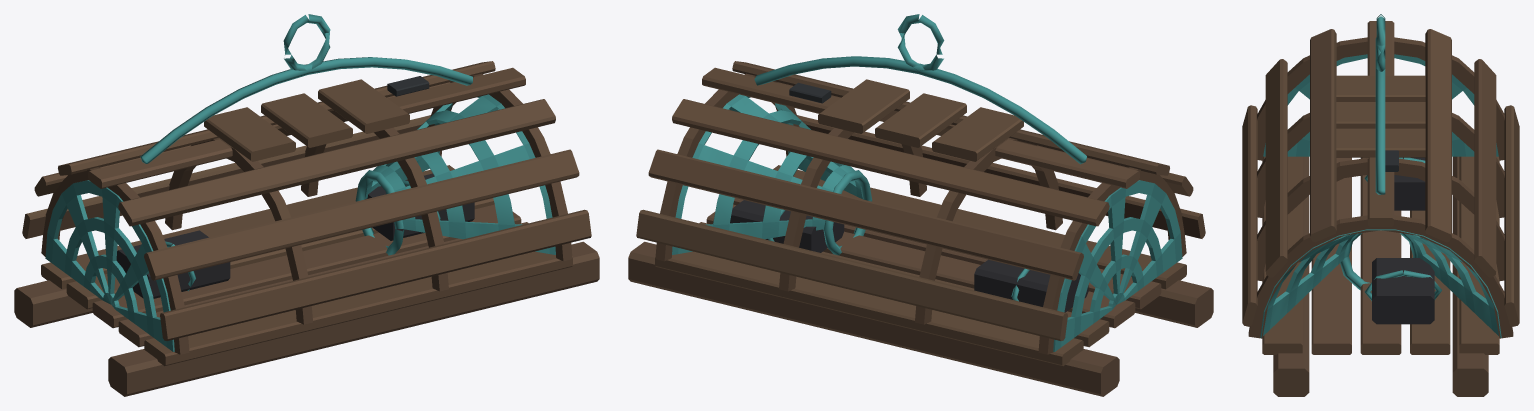
File: prop_lobster_trap_a.glb
3 renders of one model, left to right at view 1: azimuth 30°, elevation 25°; view 2: azimuth 150°, elevation 25°; view 3: azimuth 270°, elevation 25°, orthographic. The views are drawn at different scales.
Parts seen in each view (by area): view 1: prop_lobster_trap_a_mesh; view 2: prop_lobster_trap_a_mesh; view 3: prop_lobster_trap_a_mesh.
Part boxes in pixels (left/top/right/bottom): prop_lobster_trap_a_mesh: left=14, top=14, right=599, bottom=396; prop_lobster_trap_a_mesh: left=628, top=14, right=1213, bottom=396; prop_lobster_trap_a_mesh: left=1242, top=14, right=1519, bottom=396.
Size of the model in its own units: 1.16 by 0.6693 by 0.6187.
